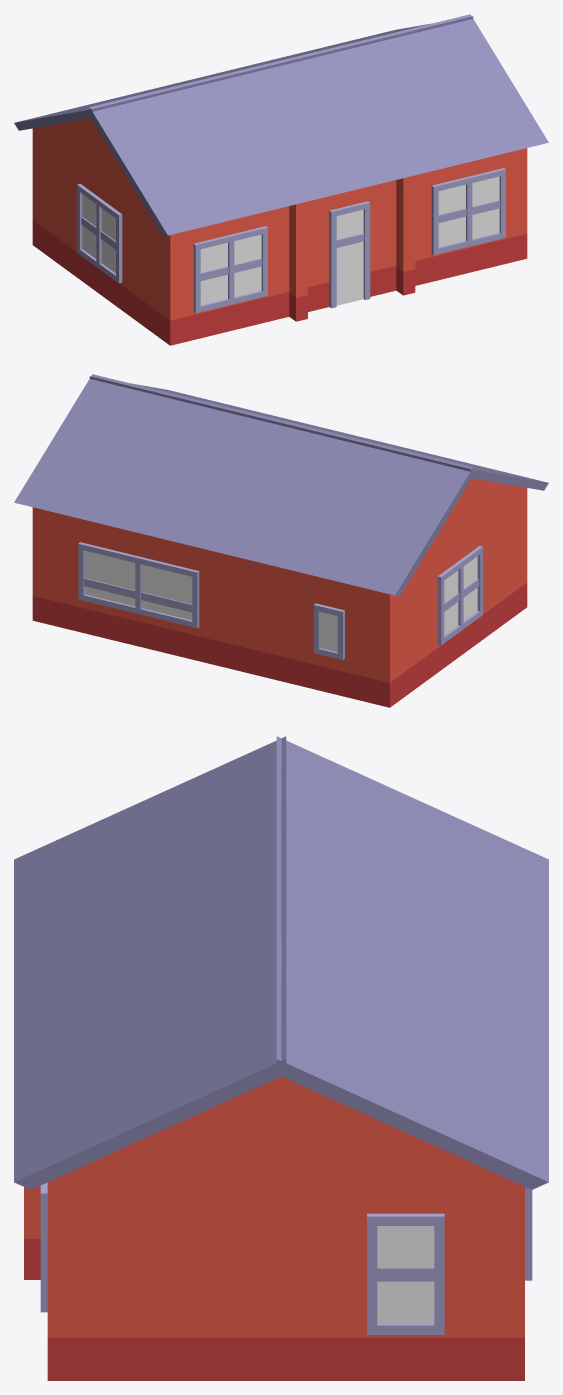
File: house2.fbx
3 views of the same model, one above another, from view 1: azimuth 30°, elevation 25°; view 2: azimuth 150°, elevation 25°; view 3: azimuth 270°, elevation 25° (orthographic). The views are drawn at different scales.
Visible parts, largest first — view 1: mergedBlocks; view 2: mergedBlocks; view 3: mergedBlocks.
Boxes of the visible parts, left/top/right/bottom form: mergedBlocks: left=14, top=14, right=548, bottom=345; mergedBlocks: left=14, top=374, right=548, bottom=707; mergedBlocks: left=14, top=736, right=548, bottom=1380.
Bounding box in the file's own units: 32 × 15.35 × 22.41.
